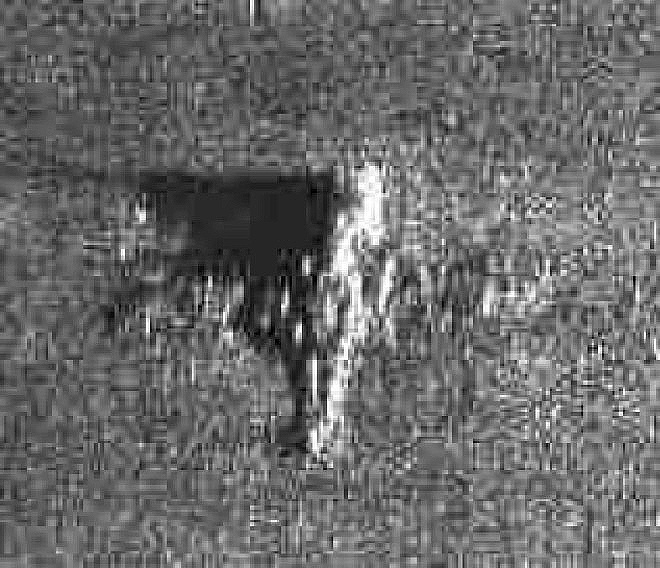aircraft: (108, 161, 563, 470)
